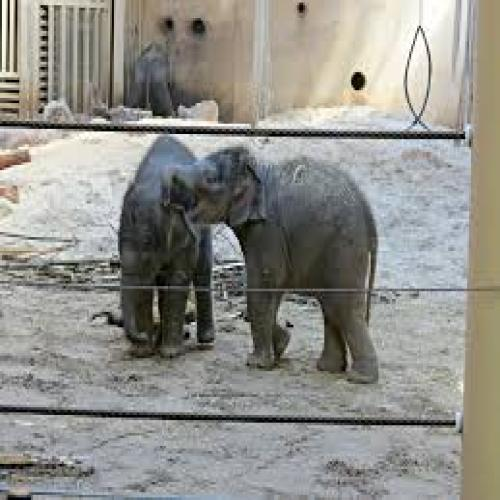asian_elephant-endangered: (169, 144, 379, 382), (119, 134, 219, 358)
